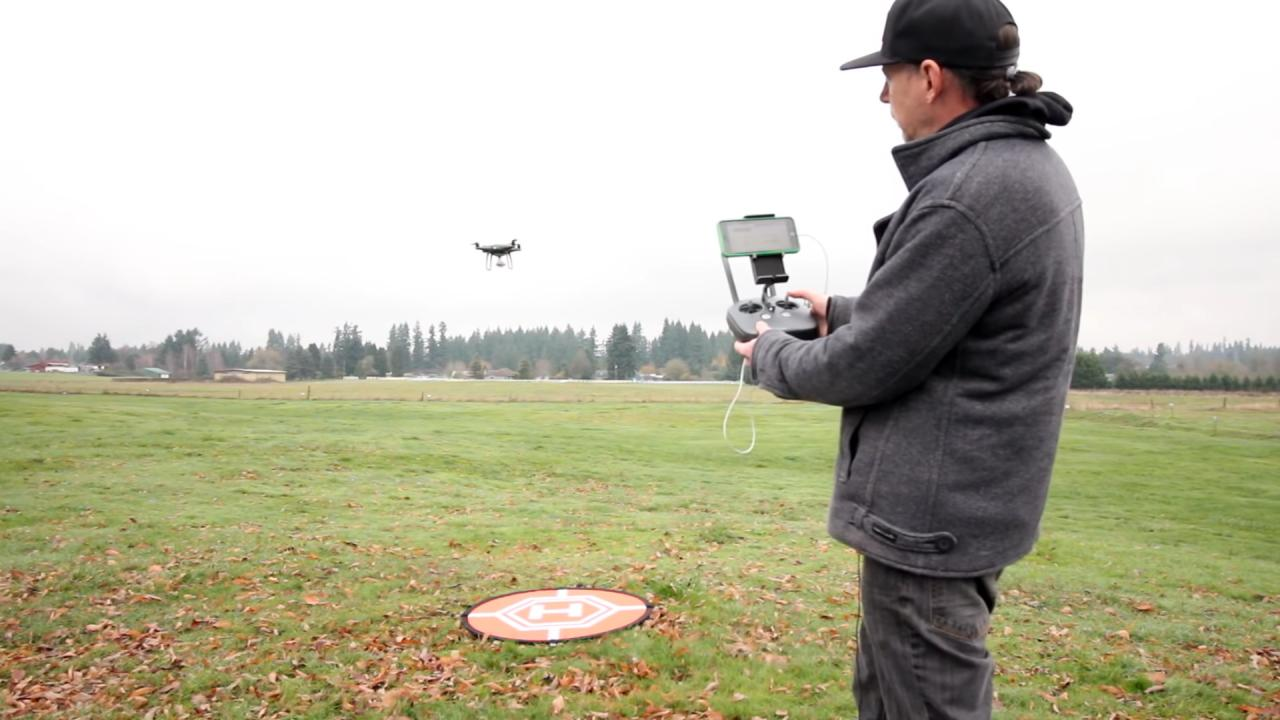Drone: (463, 231, 534, 280)
